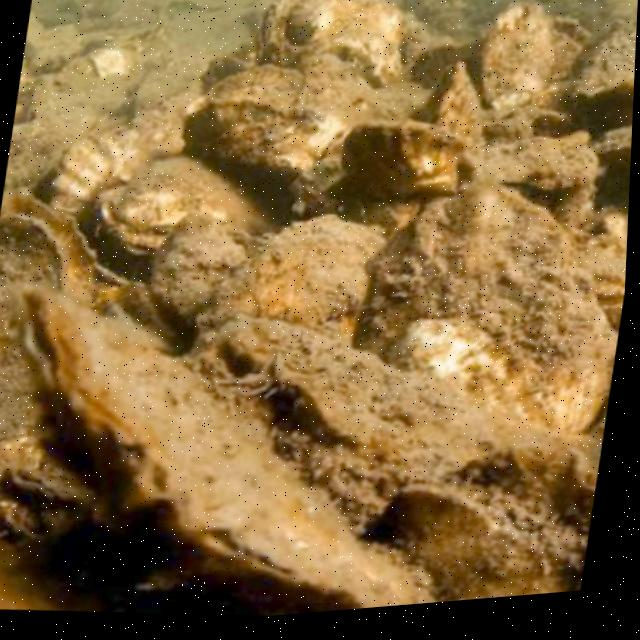Oyster-Closed: (23, 287, 398, 607)
Oyster-Indeterminate: (362, 182, 613, 431), (234, 321, 600, 489), (372, 458, 590, 600), (198, 217, 387, 349), (101, 151, 283, 253), (0, 216, 64, 446), (187, 62, 324, 163), (151, 217, 268, 320), (54, 129, 173, 219), (342, 119, 466, 200), (289, 0, 402, 86), (481, 5, 557, 105), (468, 135, 596, 184), (422, 66, 482, 147), (580, 18, 637, 101), (256, 0, 301, 70)
